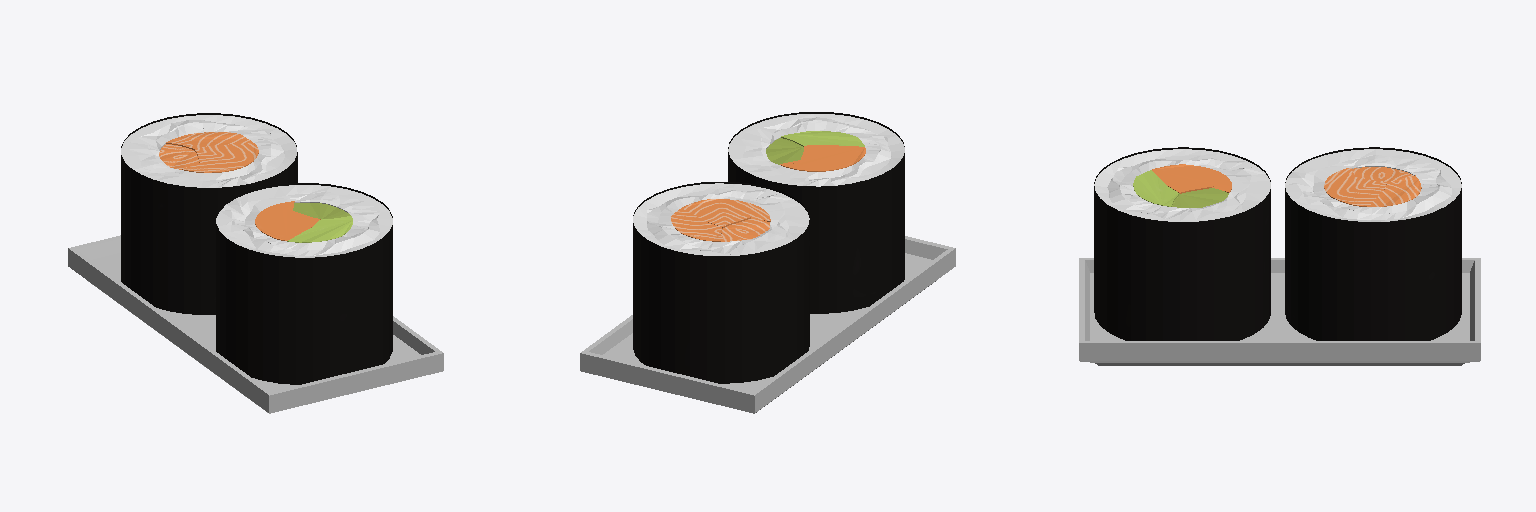
3 renders of one model, left to right at view 1: azimuth 30°, elevation 25°; view 2: azimuth 150°, elevation 25°; view 3: azimuth 270°, elevation 25°, orthographic.
Visible parts, largest first — view 1: Cylinder, Cylinder.001, Cube; view 2: Cylinder.001, Cylinder, Cube; view 3: Cylinder, Cylinder.001, Cube.
Boxes of the visible parts, <box> form: Cylinder: <box>216,183,392,384</box>; Cylinder.001: <box>121,113,297,314</box>; Cube: <box>68,235,443,413</box>; Cylinder.001: <box>633,182,809,383</box>; Cylinder: <box>728,112,904,313</box>; Cube: <box>580,236,955,413</box>; Cylinder: <box>1094,147,1270,340</box>; Cylinder.001: <box>1285,147,1461,340</box>; Cube: <box>1079,258,1480,365</box>.
Size of the model in its own units: 2 by 1.58 by 4.
3 materials, 2 textured.